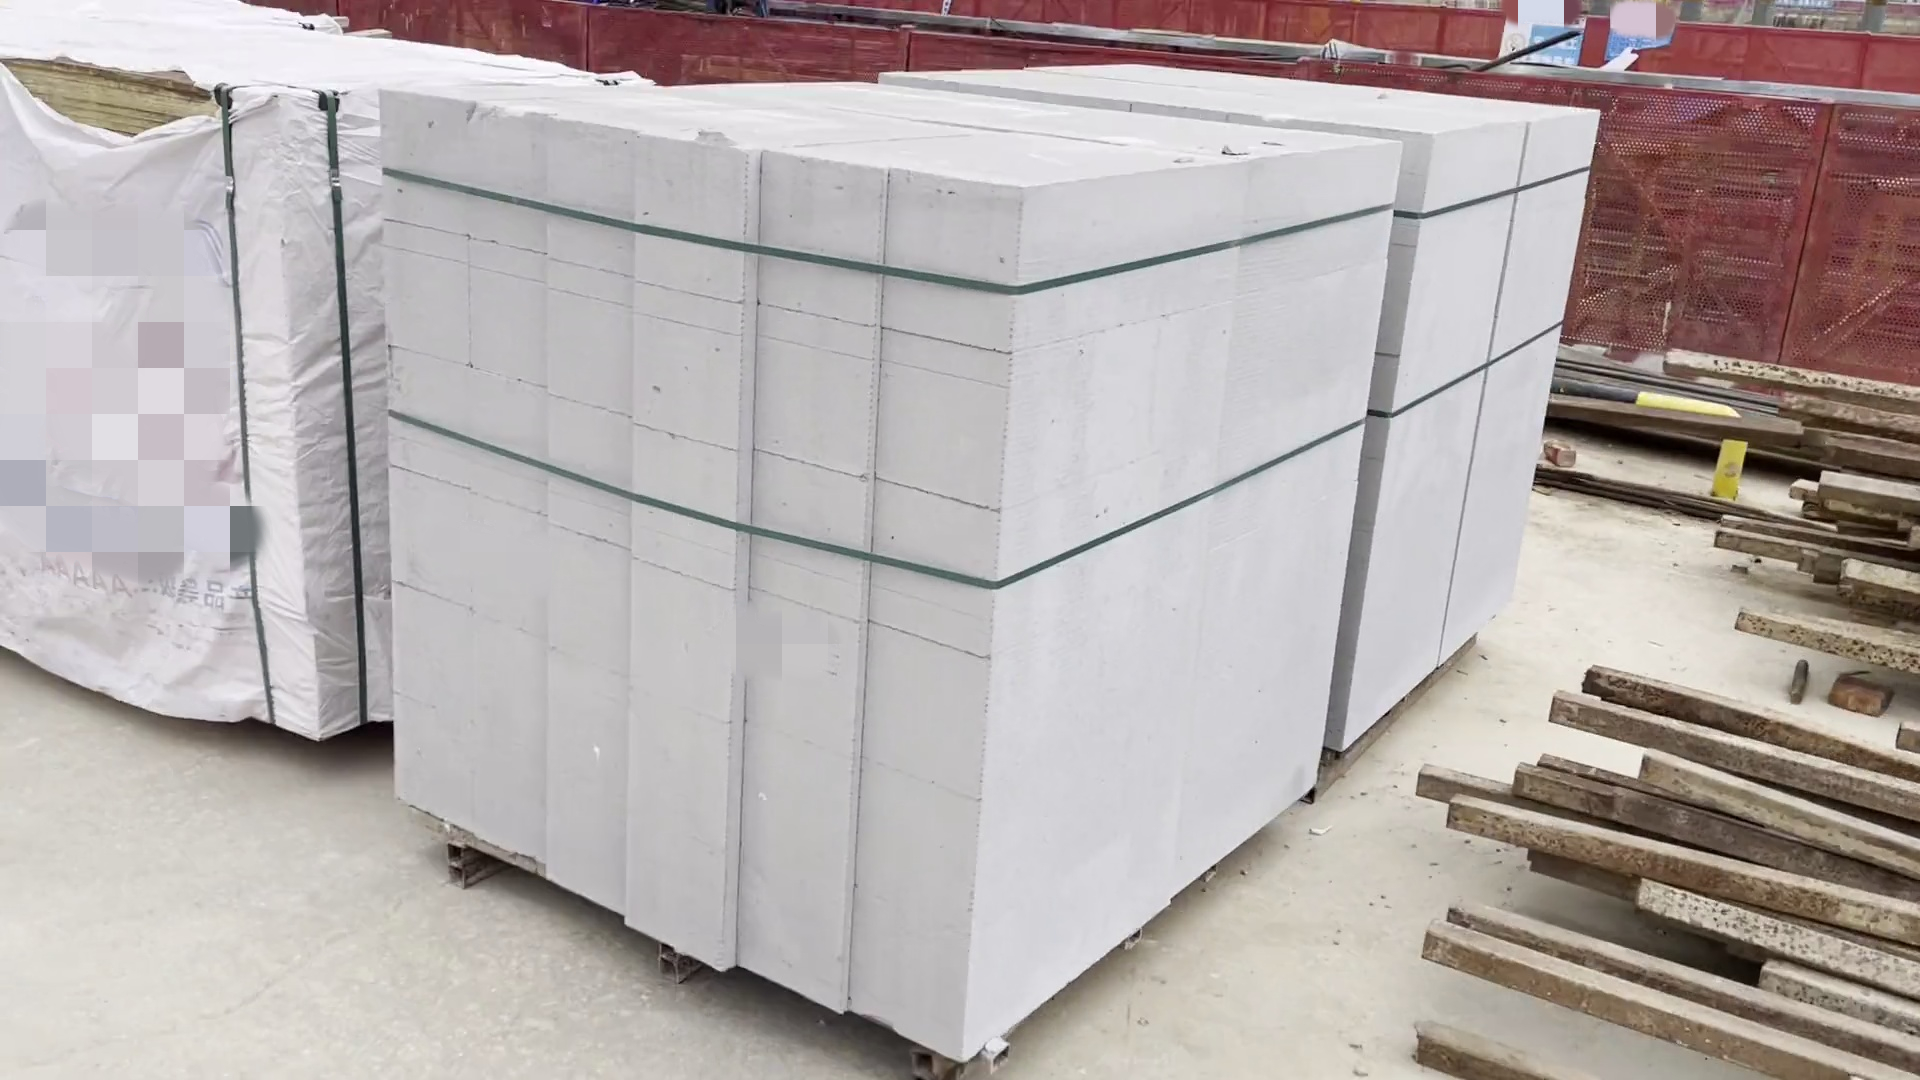brick: (363, 69, 1453, 1080)
